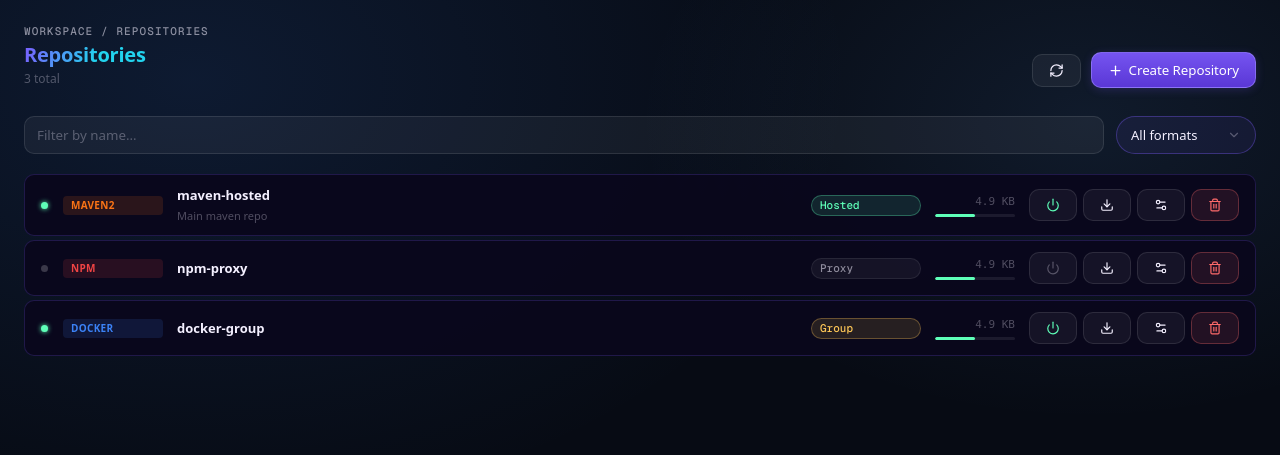
RepositoriesPage › filters by format via the Select dropdown
The width and height of the screenshot is (1280, 455).
Check: the text "maven-hosted" is shown, box [177, 186, 270, 204]
Step 1. Click the button "All formats" → [1186, 135], box [1116, 116, 1256, 154]
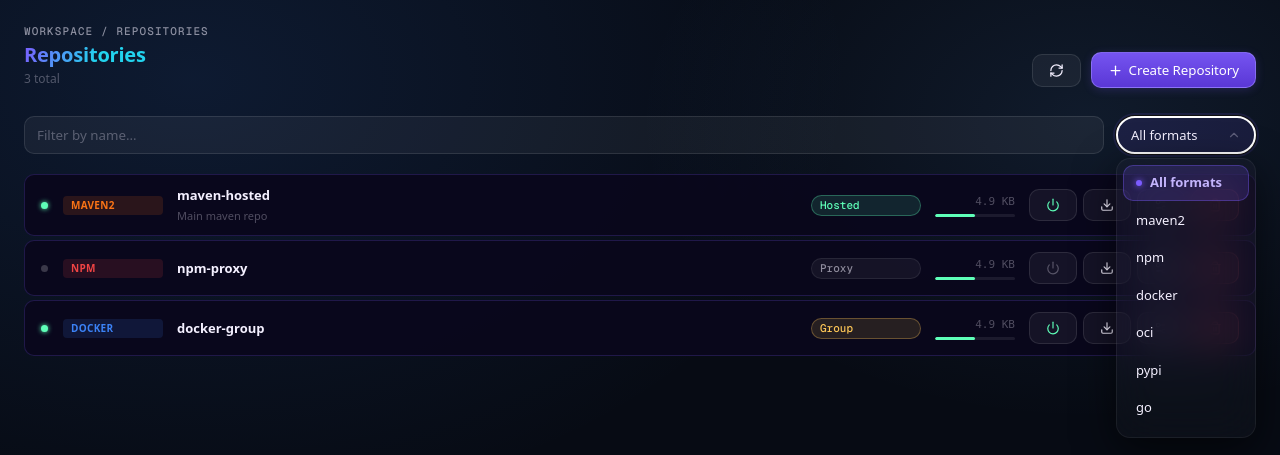
Step 2. Click the 1st text "docker" → [1157, 295], box [1136, 286, 1178, 304]
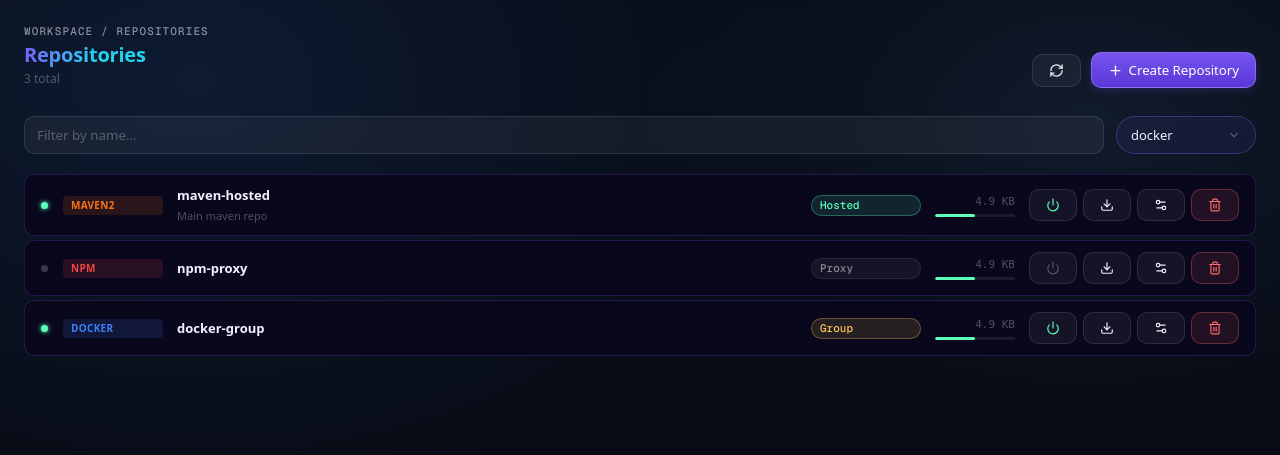
Check: the 1st text "docker" is shown, box [1131, 126, 1173, 144]
